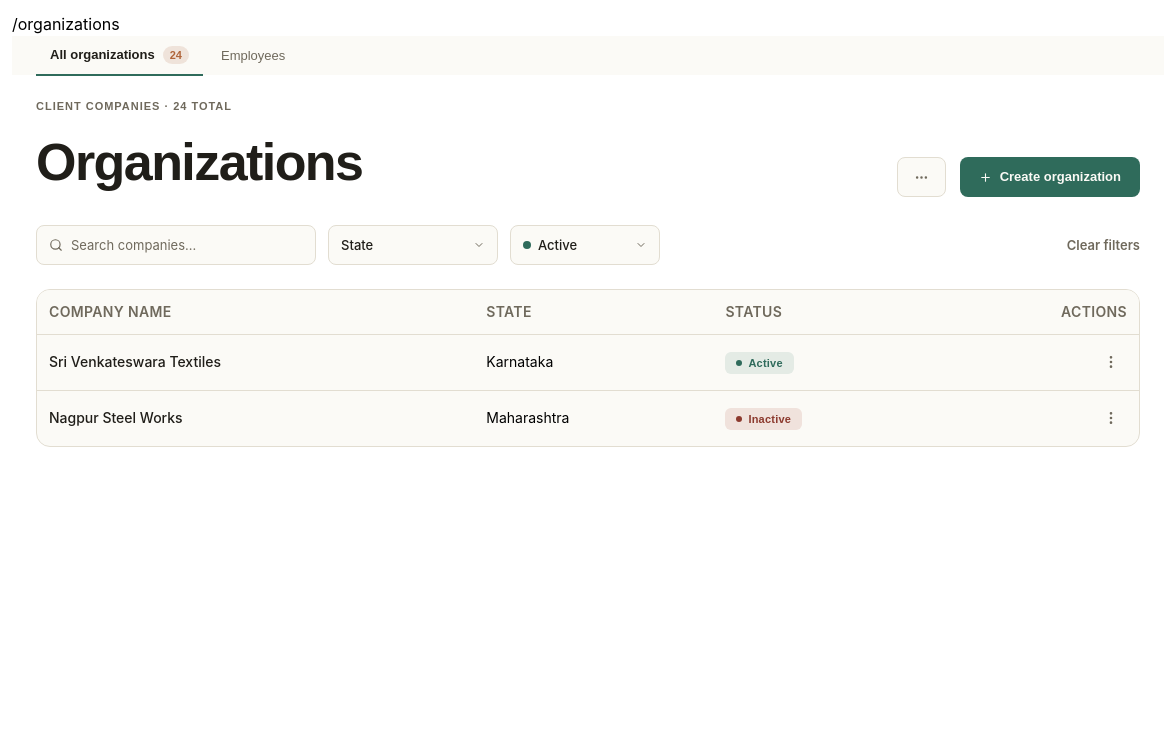
Test case: OrganizationsPage › does not leak search text across tab switches
Check: the text "Organizations" is shown, box [36,123,362,201]
Type "sri" into the field with placeholder "Search companies…" at (187, 245), box [71,226,303,264]
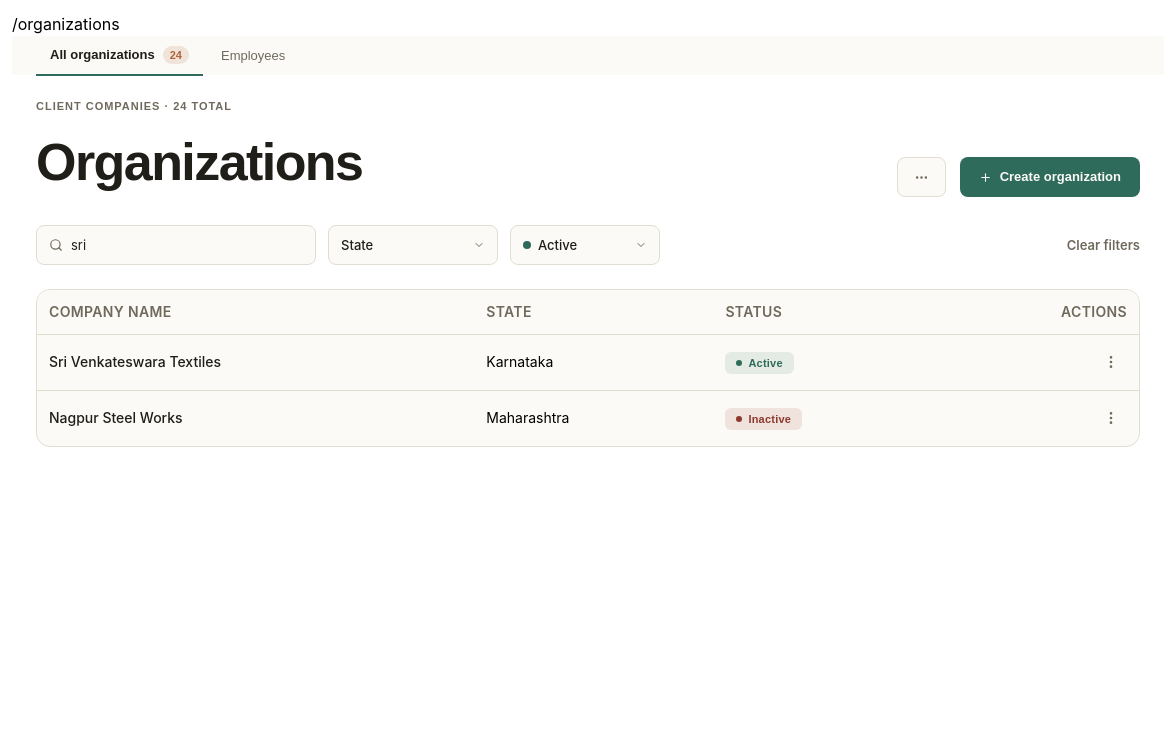
Click the tab "Employees" at (253, 56), box [207,36,299,76]
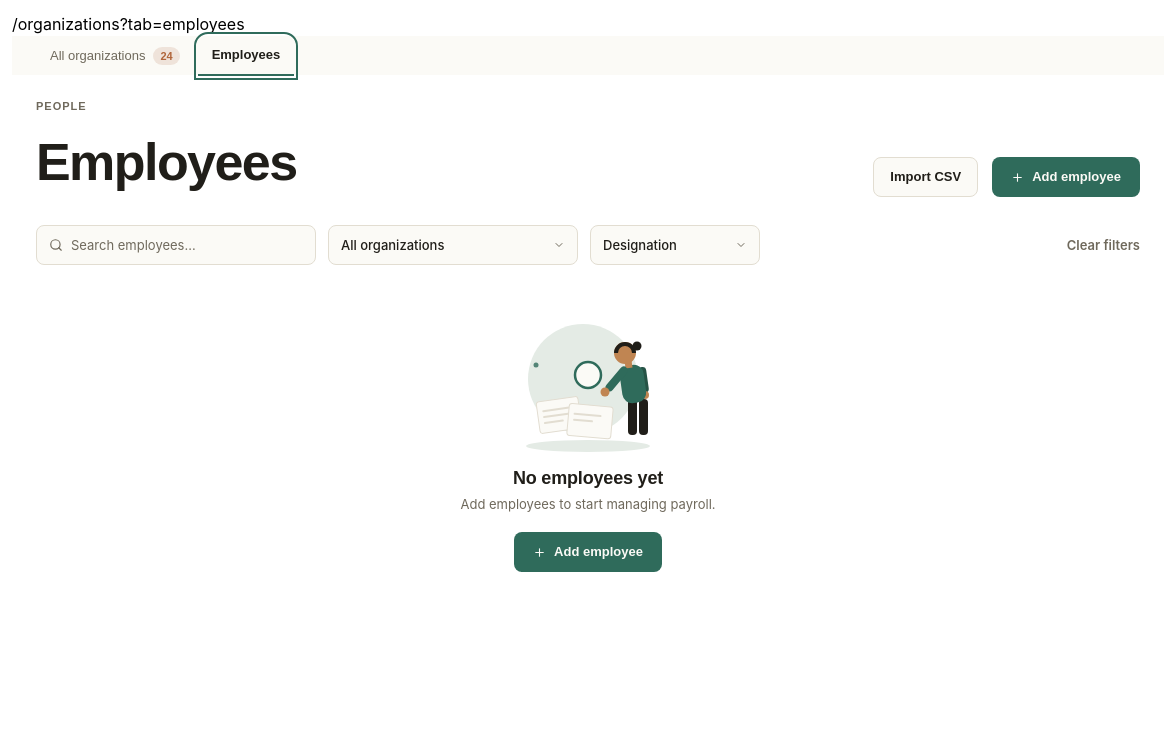
Check: the text "Organizations" reads "Employees", box [36,133,296,191]
Check: the field with placeholder "Search employees…" is empty, box [71,226,303,264]
